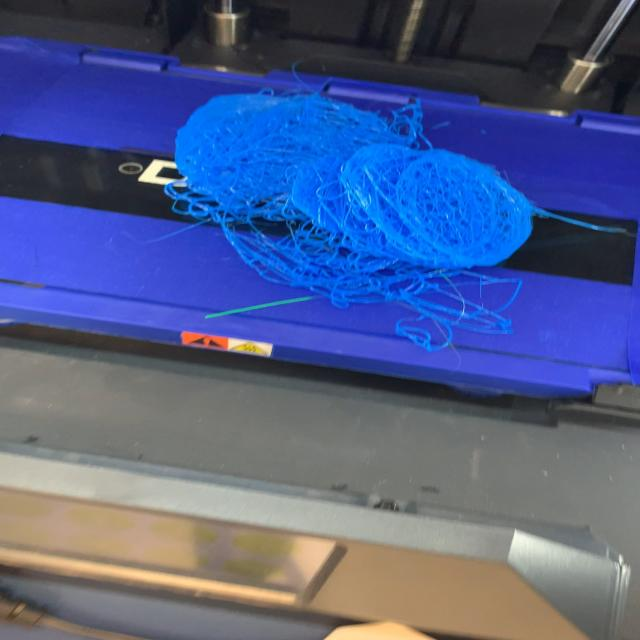spaghetti: (162, 83, 538, 359)
